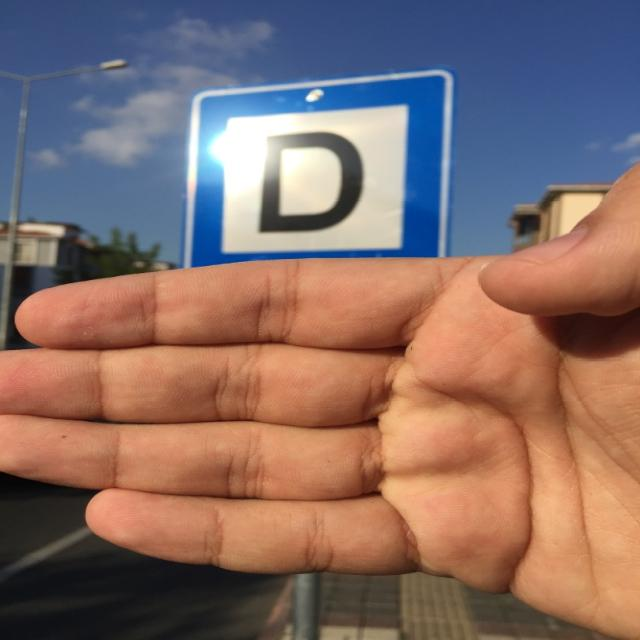durak: (182, 66, 448, 280)
